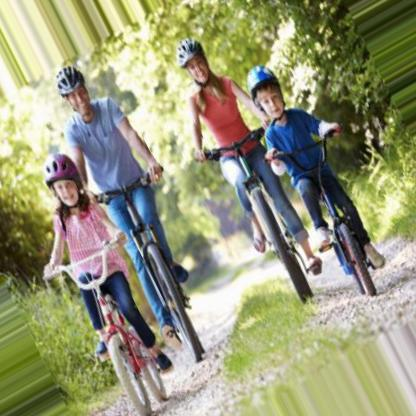with helmet: (246, 63, 284, 119), (48, 154, 84, 207), (58, 68, 91, 117), (175, 38, 209, 84)
